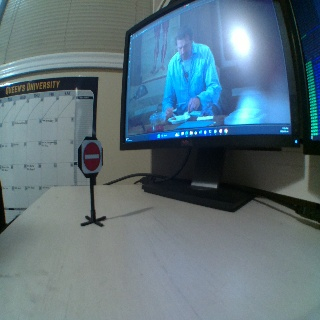sign_noentry: (81, 141, 103, 173)
